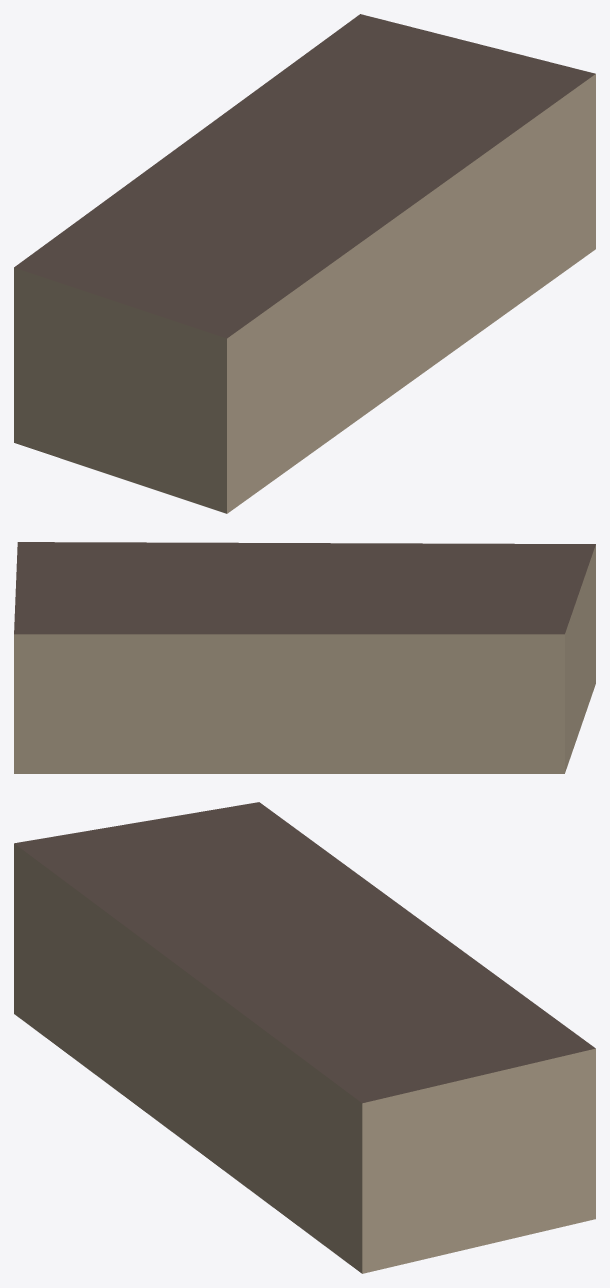
3 renders of one model, top to bottom at view 1: azimuth 30°, elevation 25°; view 2: azimuth 150°, elevation 25°; view 3: azimuth 270°, elevation 25°, orthographic. The views are drawn at different scales.
Visible parts, largest first — view 1: HP-w1512359809; view 2: HP-w1512359809; view 3: HP-w1512359809.
Part boxes in pixels (x1,y1,x2,y2): HP-w1512359809: (14,14,595,513); HP-w1512359809: (14,542,595,773); HP-w1512359809: (14,802,595,1273).
Bounding box in the file's own units: 34.09 × 9 × 27.83.
